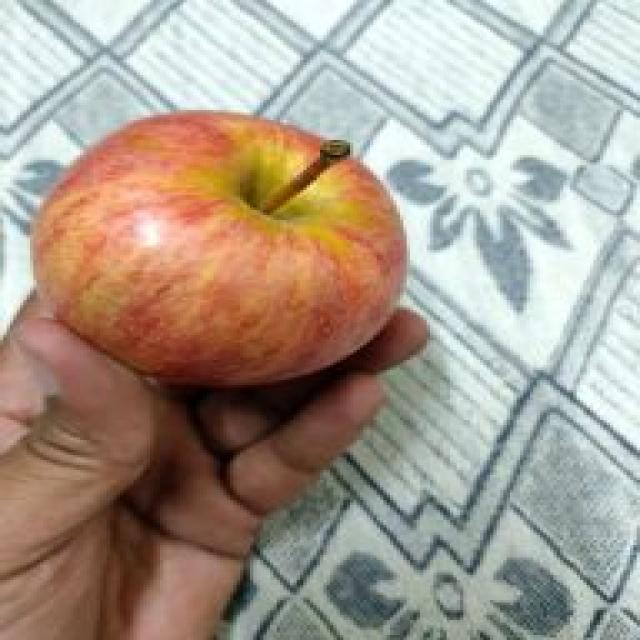Good_Apple: (30, 110, 410, 392)
